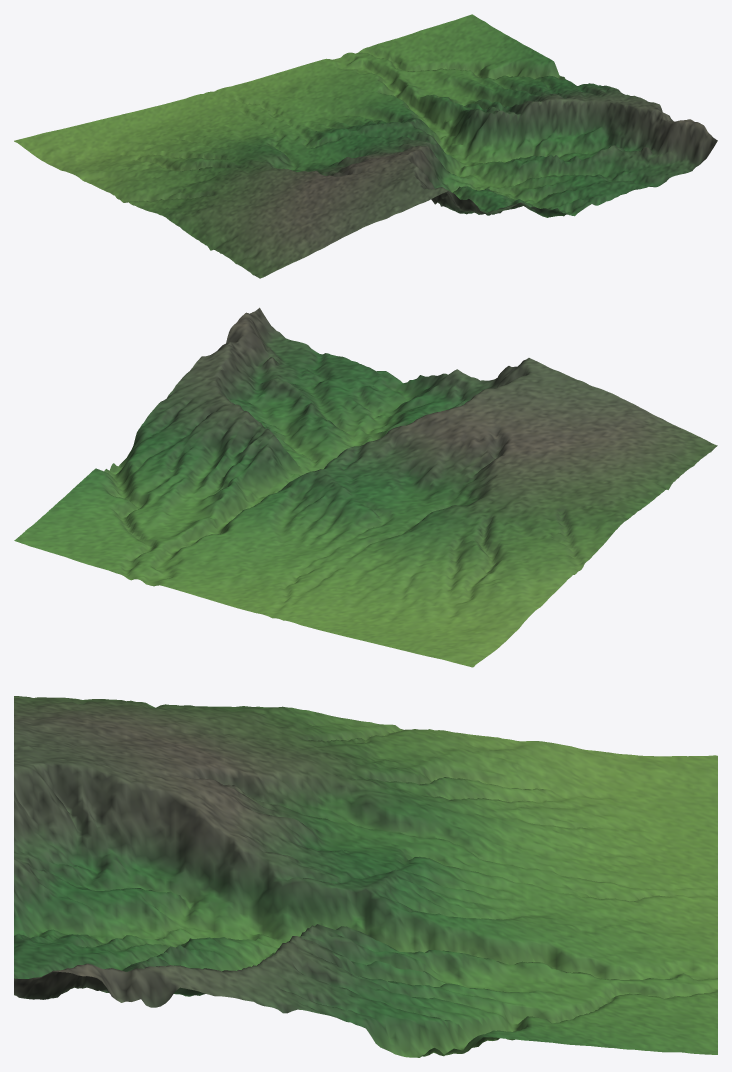
The model's file is lareunion-terrain-5.glb.
3 views of the same model, one above another, from view 1: azimuth 30°, elevation 25°; view 2: azimuth 150°, elevation 25°; view 3: azimuth 270°, elevation 25° (orthographic). The views are drawn at different scales.
Parts seen in each view (by area): view 1: LaReunionRgeAltiTerrain_5; view 2: LaReunionRgeAltiTerrain_5; view 3: LaReunionRgeAltiTerrain_5.
Part boxes in pixels (x1,y1,x2,y2): LaReunionRgeAltiTerrain_5: [14, 14, 717, 278]; LaReunionRgeAltiTerrain_5: [14, 307, 717, 667]; LaReunionRgeAltiTerrain_5: [14, 696, 717, 1057].
Bounding box in the file's own units: 55.19 × 9.64 × 51.17.
